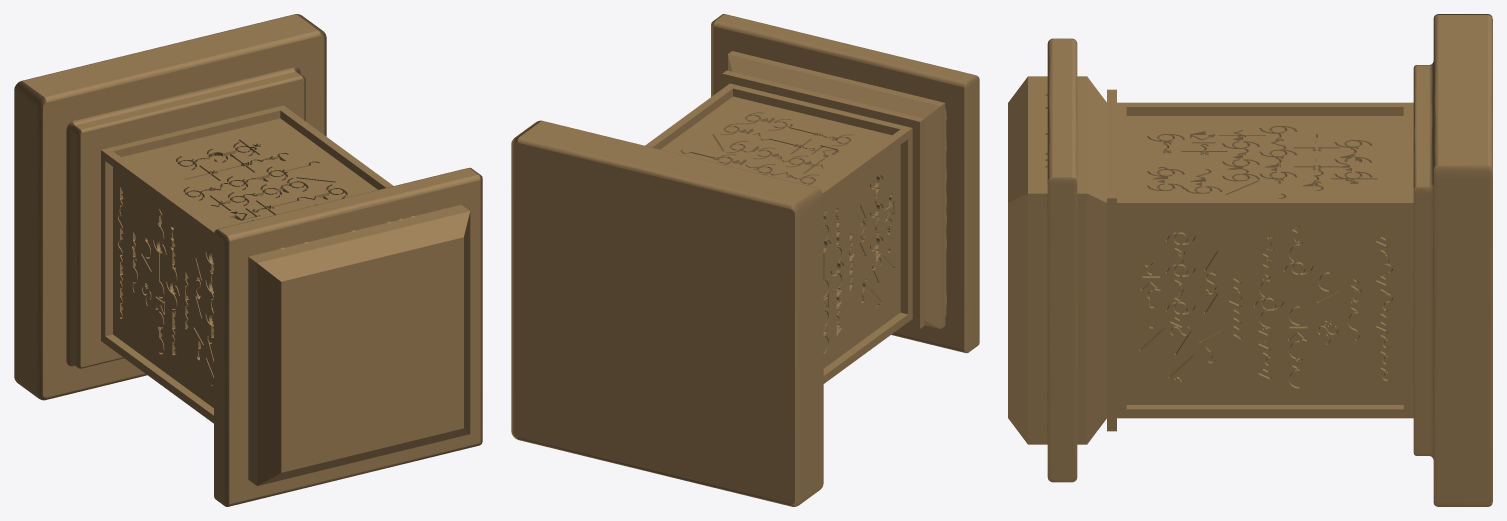
File: YAZIT 01 v3 v1.fbx
The picture shows the model from 3 angles, left to right: view 1: azimuth 30°, elevation 25°; view 2: azimuth 150°, elevation 25°; view 3: azimuth 270°, elevation 25°; orthographic projection. The views are drawn at different scales.
Visible parts, largest first — view 1: Body6; view 2: Body6; view 3: Body6.
Boxes of the visible parts, <box> form: Body6: <box>14,14,482,506</box>; Body6: <box>511,14,979,506</box>; Body6: <box>1008,14,1492,506</box>.
Size of the model in its own units: 190 by 190 by 245.
